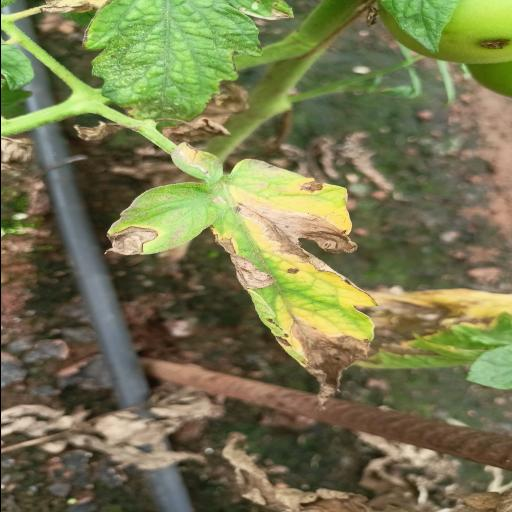Early Blight: (102, 158, 380, 412)
